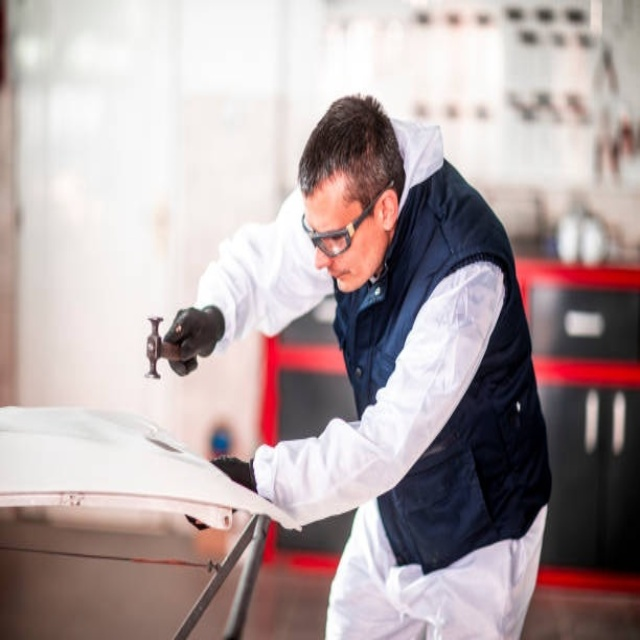Gafas: (301, 180, 393, 257)
Guantes: (189, 455, 259, 529), (160, 305, 226, 373)
Sin_mascara: (328, 259, 355, 289)
